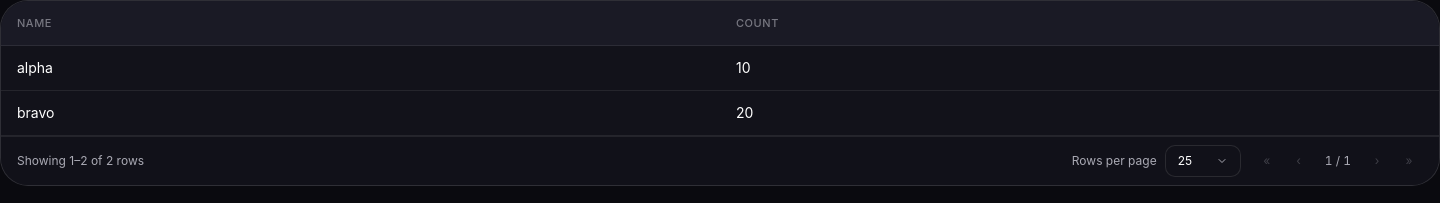
Test: DataTable — inline cell editing › double-clicking an editable cell enters edit mode
Double-click the text "alpha" at (35, 68), box [17, 58, 53, 78]
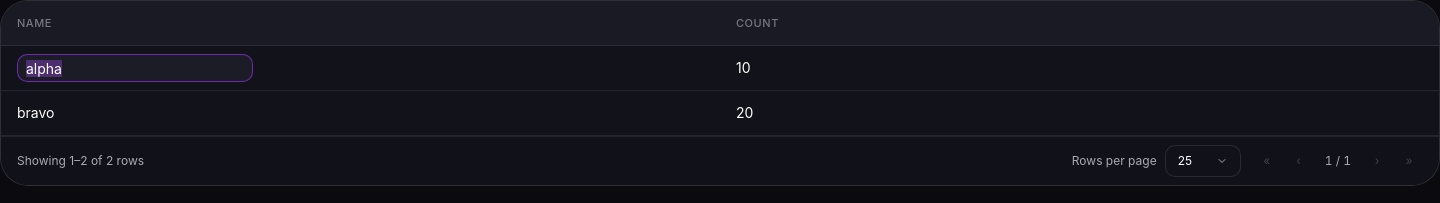
Result: the field showing "alpha" is shown at [17, 54, 253, 82]
